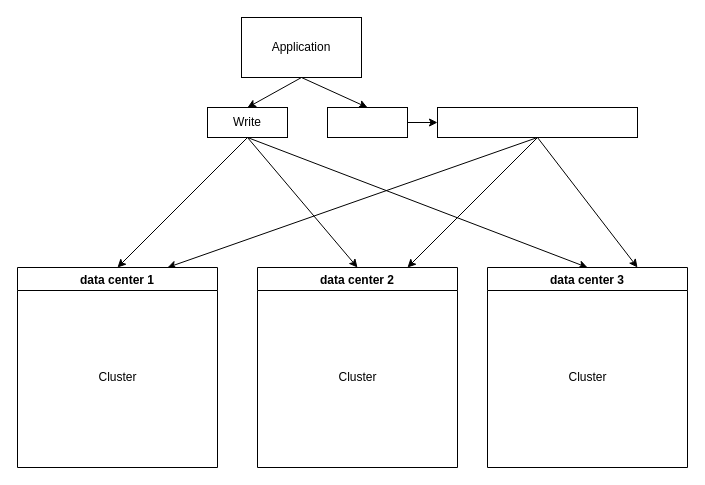
Image size: 705x485. Some labels were removed from this diagram. Each missing label, with the centre of its shape:
"GTM(Global Traffic Manager)" goes at point 537,122.
"Read" goes at point 367,122.
